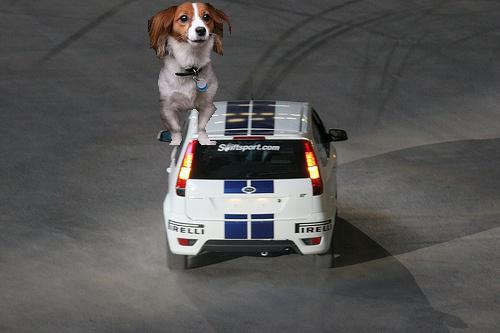tampered: (149, 3, 231, 145)
